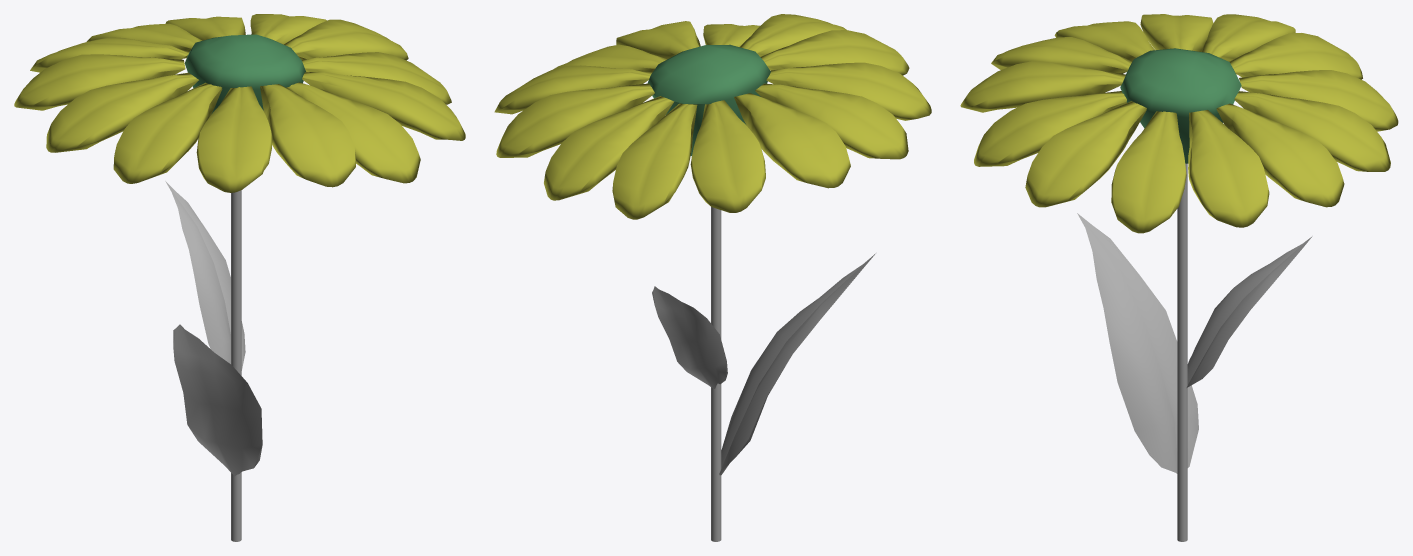
File: Straight_flower.fbx
3 views of the same model, side by side, from view 1: azimuth 30°, elevation 25°; view 2: azimuth 150°, elevation 25°; view 3: azimuth 270°, elevation 25° (orthographic). The views are drawn at different scales.
Visible parts, largest first — view 1: polySurface66, polySurface54, polySurface62; view 2: polySurface66, polySurface54, polySurface62; view 3: polySurface66, polySurface54, polySurface62.
Boxes of the visible parts, <box> form: polySurface66: <box>14,14,465,192</box>; polySurface54: <box>165,181,262,541</box>; polySurface62: <box>184,34,305,113</box>; polySurface66: <box>494,14,931,219</box>; polySurface54: <box>652,207,875,541</box>; polySurface62: <box>647,44,770,156</box>; polySurface66: <box>960,14,1398,233</box>; polySurface54: <box>1077,163,1312,541</box>; polySurface62: <box>1120,48,1241,163</box>.
Bounding box in the file's own units: 3.23 × 4 × 3.27.
